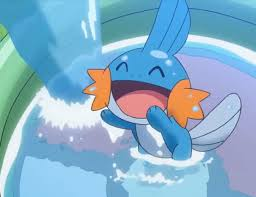mudkip: (81, 1, 249, 163)
